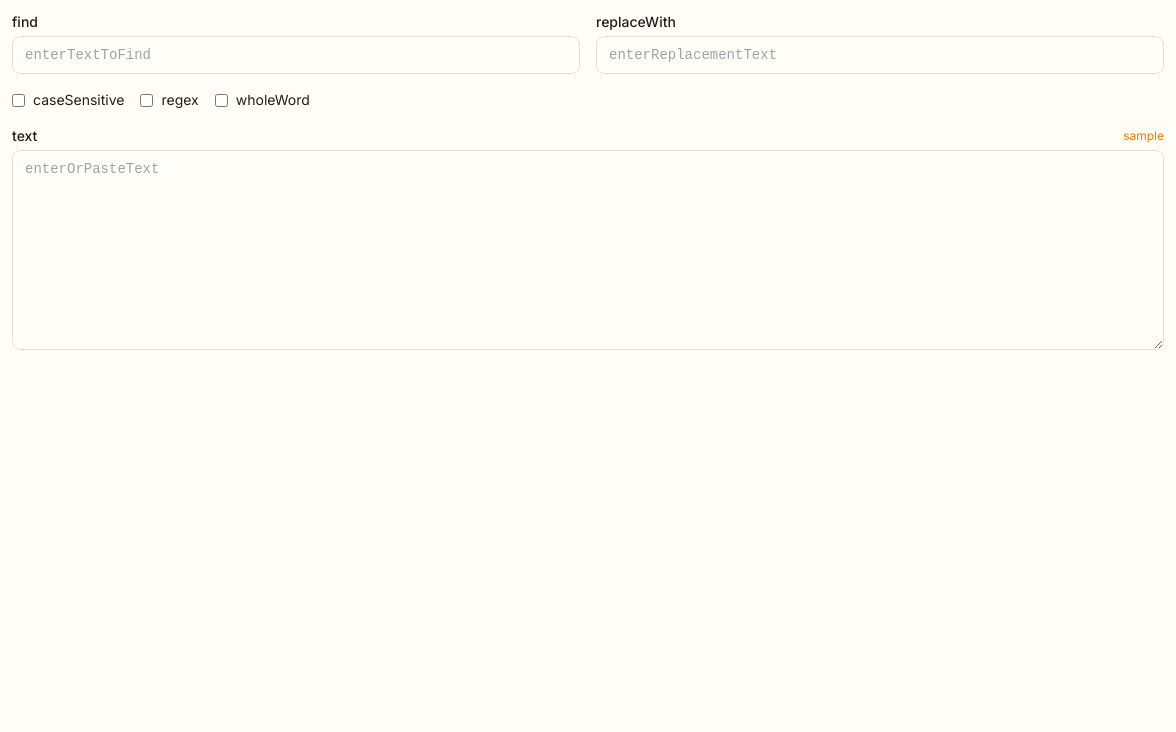
Test case: FindAndReplace › finds text and shows match count
In the text box named "Text input for find and replace": {"x": 588, "y": 250} top-left (12, 150), bottom-right (1164, 350), type "The cat and the cat sat on the mat"
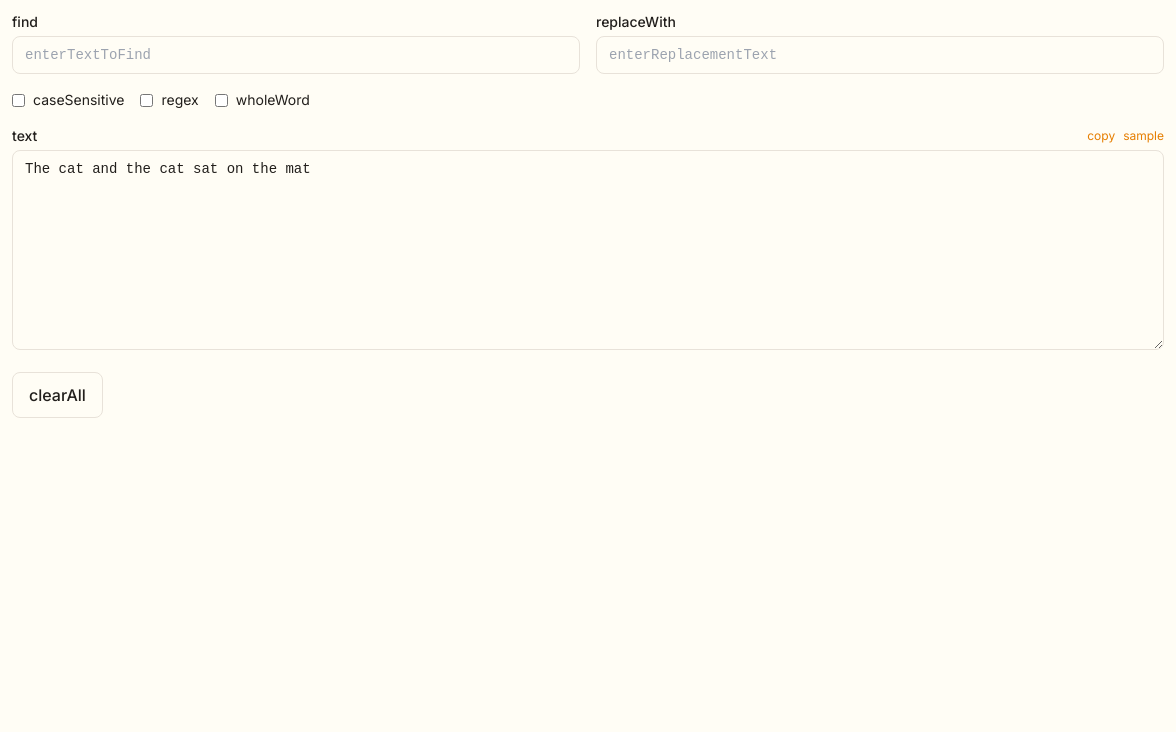
In the field labelled "Find": {"x": 296, "y": 55} top-left (12, 36), bottom-right (580, 74), type "cat"
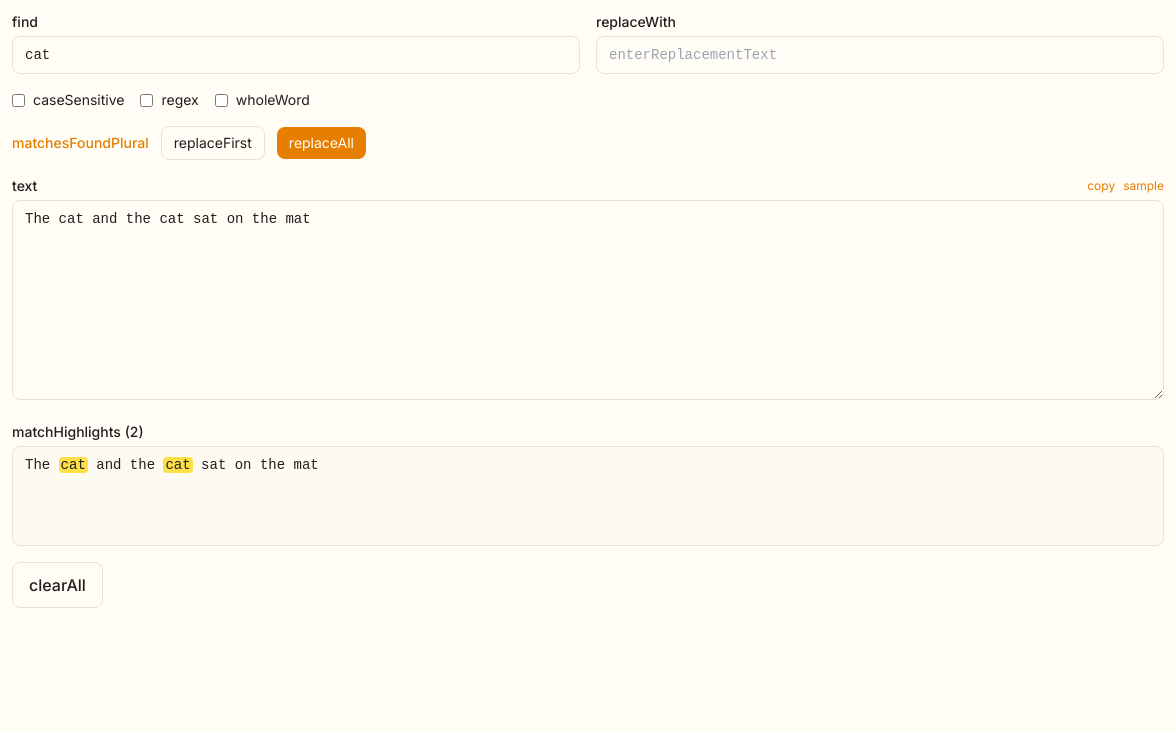
Result: the text "matchesFoundPlural" is shown at top-left (12, 133), bottom-right (149, 153)
